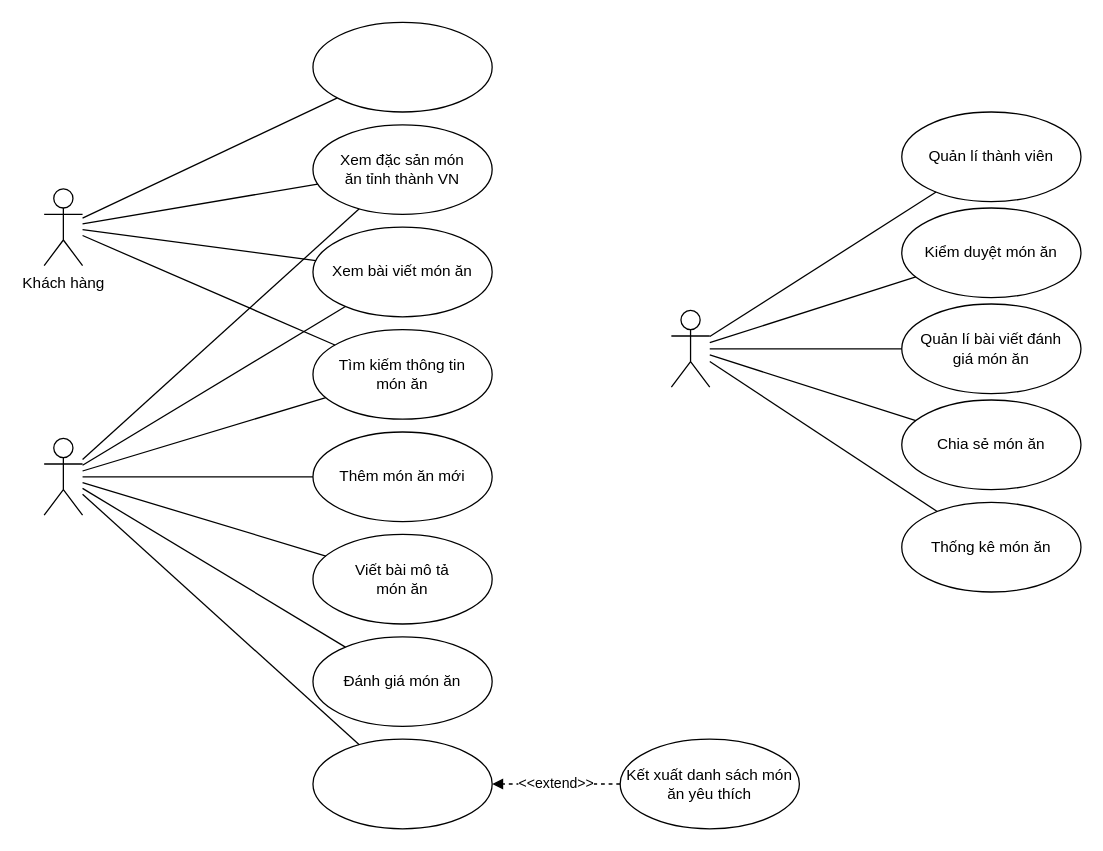
This 1103x851 diagram has some shape labels left out. The centre of each missing label's shape, as x and y in pixels:
Lập danh sách món ăn yêu thích: (x=402, y=783)
Người quản trị: (x=690, y=348)
Thành viên: (x=63, y=476)
Đăng kí làm thành viên: (x=402, y=66)
